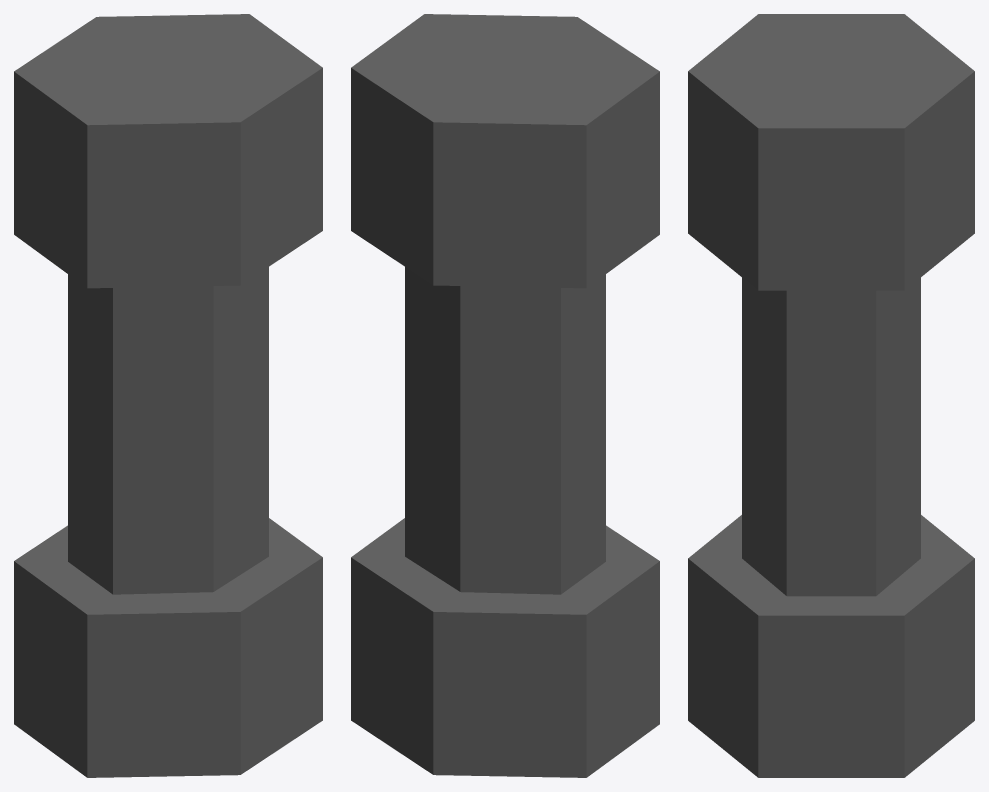
The model's file is column.glb.
The picture shows the model from 3 angles, left to right: view 1: azimuth 30°, elevation 25°; view 2: azimuth 150°, elevation 25°; view 3: azimuth 270°, elevation 25°; orthographic projection.
Visible parts, largest first — view 1: Bridge Column C; view 2: Bridge Column C; view 3: Bridge Column C.
Part boxes in pixels (<box>): Bridge Column C: <box>14,14,322,777</box>; Bridge Column C: <box>351,14,659,777</box>; Bridge Column C: <box>688,14,974,777</box>.
Size of what is drawn, in the model's own units: 1.51 by 4 by 1.6.
Materials: 1 (1 with a texture image).
